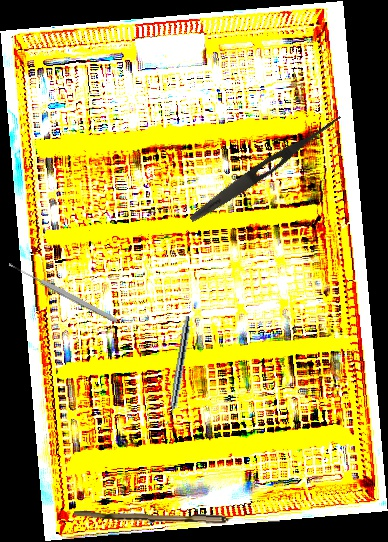Dressing Forceps: (186, 109, 345, 227)
Handpiece: (164, 315, 193, 427)
Surgical Spoon: (7, 260, 119, 325), (73, 511, 281, 525)
